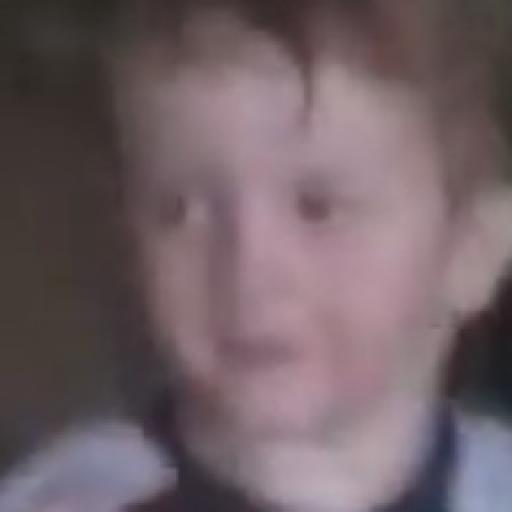Autism: (102, 33, 512, 488)
